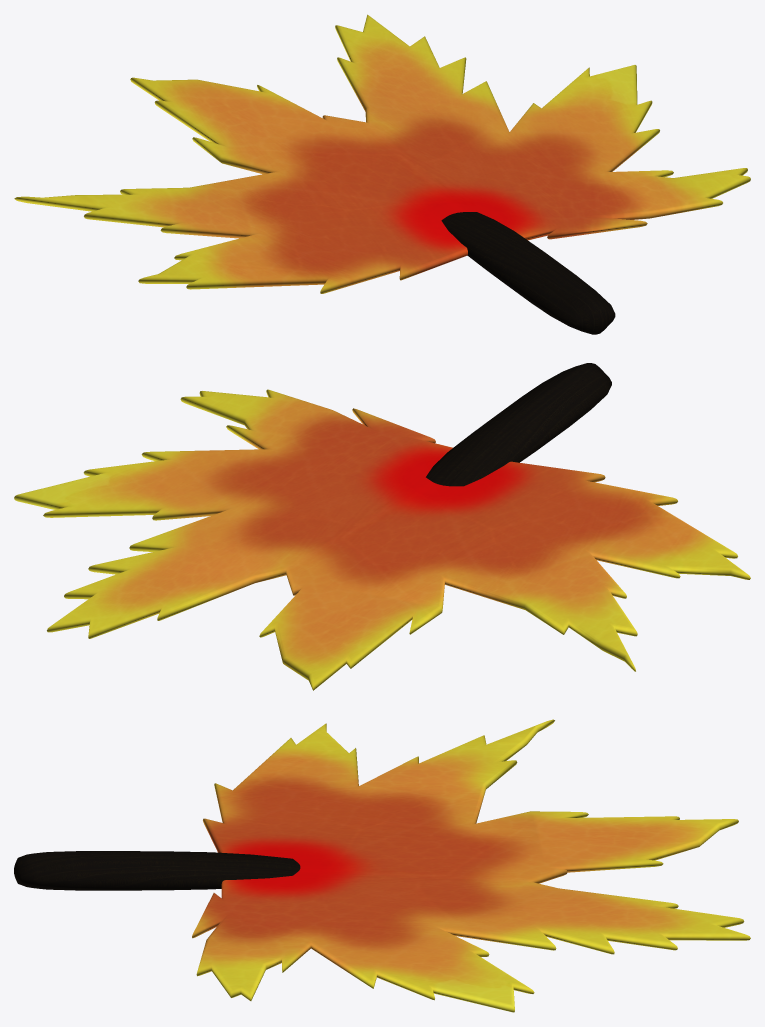
The model's file is FanBlowFan.FBX.
The picture shows the model from 3 angles, top to bottom: view 1: azimuth 30°, elevation 25°; view 2: azimuth 150°, elevation 25°; view 3: azimuth 270°, elevation 25°; orthographic projection. The views are drawn at different scales.
Visible parts, largest first — view 1: Line001, Spindle001; view 2: Line001, Spindle001; view 3: Line001, Spindle001.
Part boxes in pixels (box(x1,y1,x2,y2)): Line001: box(14, 14, 750, 293); Spindle001: box(441, 212, 615, 334); Line001: box(14, 389, 750, 690); Spindle001: box(426, 363, 611, 486); Line001: box(192, 719, 750, 1012); Spindle001: box(14, 851, 300, 890).
Size of the model in its own units: 43.61 by 2.51 by 46.81.
Materials: 2 (2 with a texture image).
